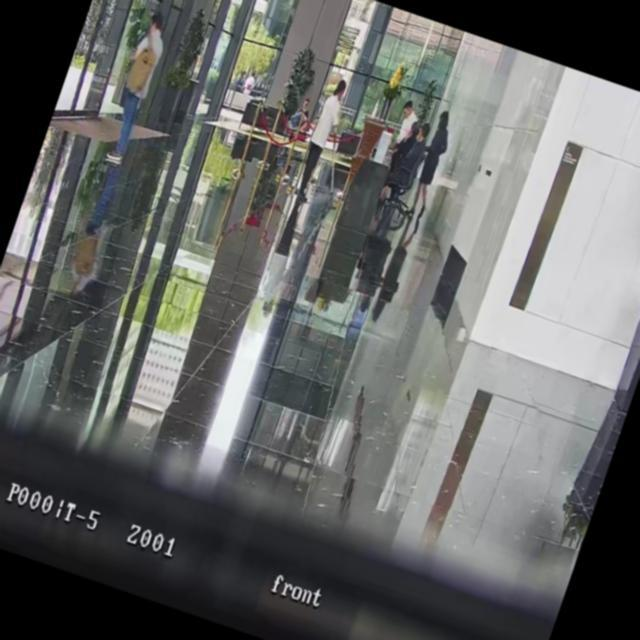person: (98, 11, 174, 168), (291, 74, 356, 200), (402, 109, 457, 220), (386, 118, 432, 190), (392, 99, 426, 149), (396, 117, 423, 159), (285, 95, 314, 132), (240, 67, 260, 96), (234, 67, 248, 91)
